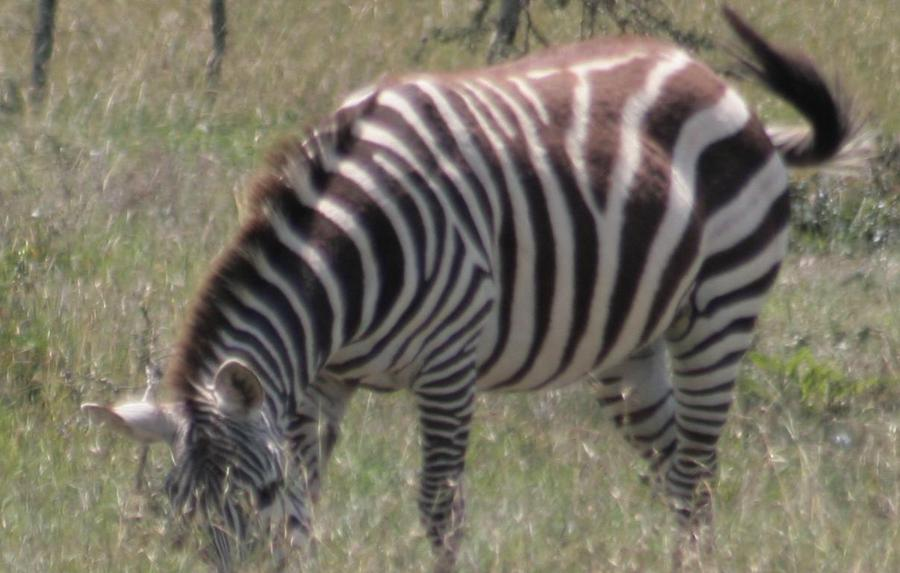zebra_plains: (282, 42, 811, 412)
